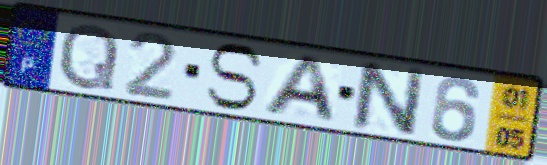2: (118, 30, 179, 102)
6: (428, 74, 482, 143)
A: (258, 53, 340, 126)
N: (350, 59, 429, 139)
Q: (55, 21, 122, 92)
S: (202, 41, 267, 113)
